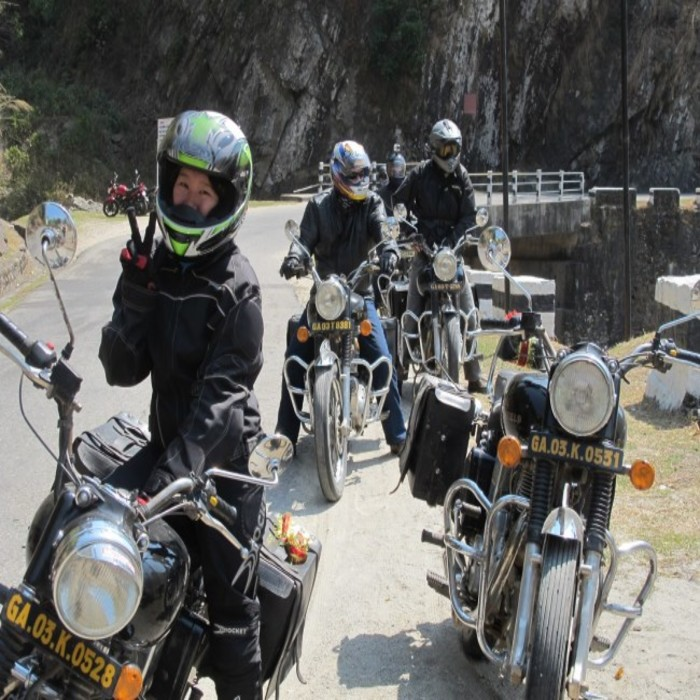h: (152, 108, 254, 259), (329, 138, 376, 204), (429, 118, 466, 176)
n: (1, 587, 122, 691), (525, 431, 623, 475), (427, 279, 462, 294), (309, 319, 352, 331)
